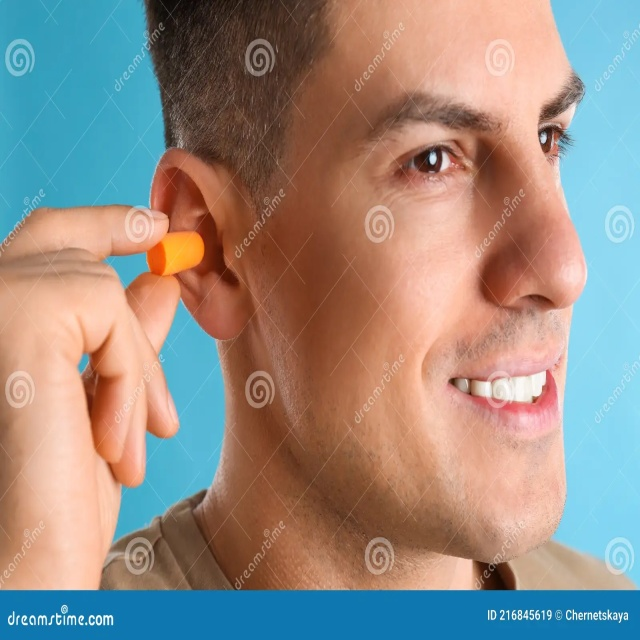Hearing_Protection: (159, 232, 198, 268)
